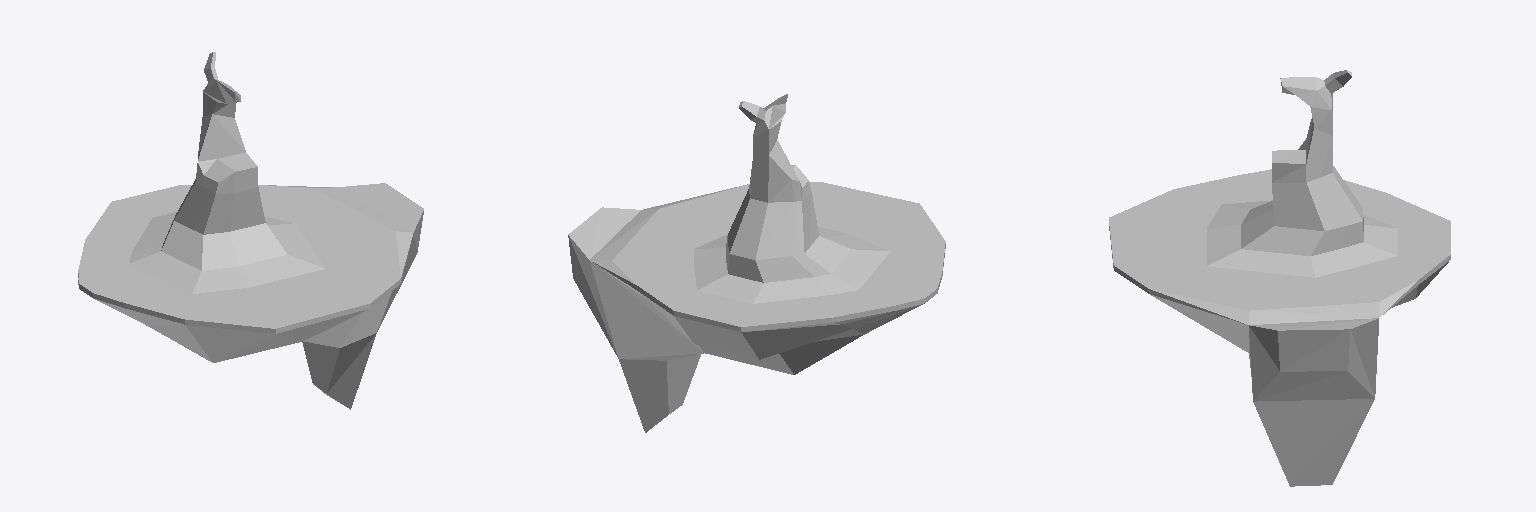
File: World1Base9.obj
3 renders of one model, left to right at view 1: azimuth 30°, elevation 25°; view 2: azimuth 150°, elevation 25°; view 3: azimuth 270°, elevation 25°, orthographic.
Visible parts, largest first — view 1: World1Base9; view 2: World1Base9; view 3: World1Base9.
Part boxes in pixels (x1,y1,x2,y2): World1Base9: (78,52,423,409); World1Base9: (568,94,945,432); World1Base9: (1109,70,1450,486).
Bounding box in the file's own units: 67.97 × 70.63 × 60.32.